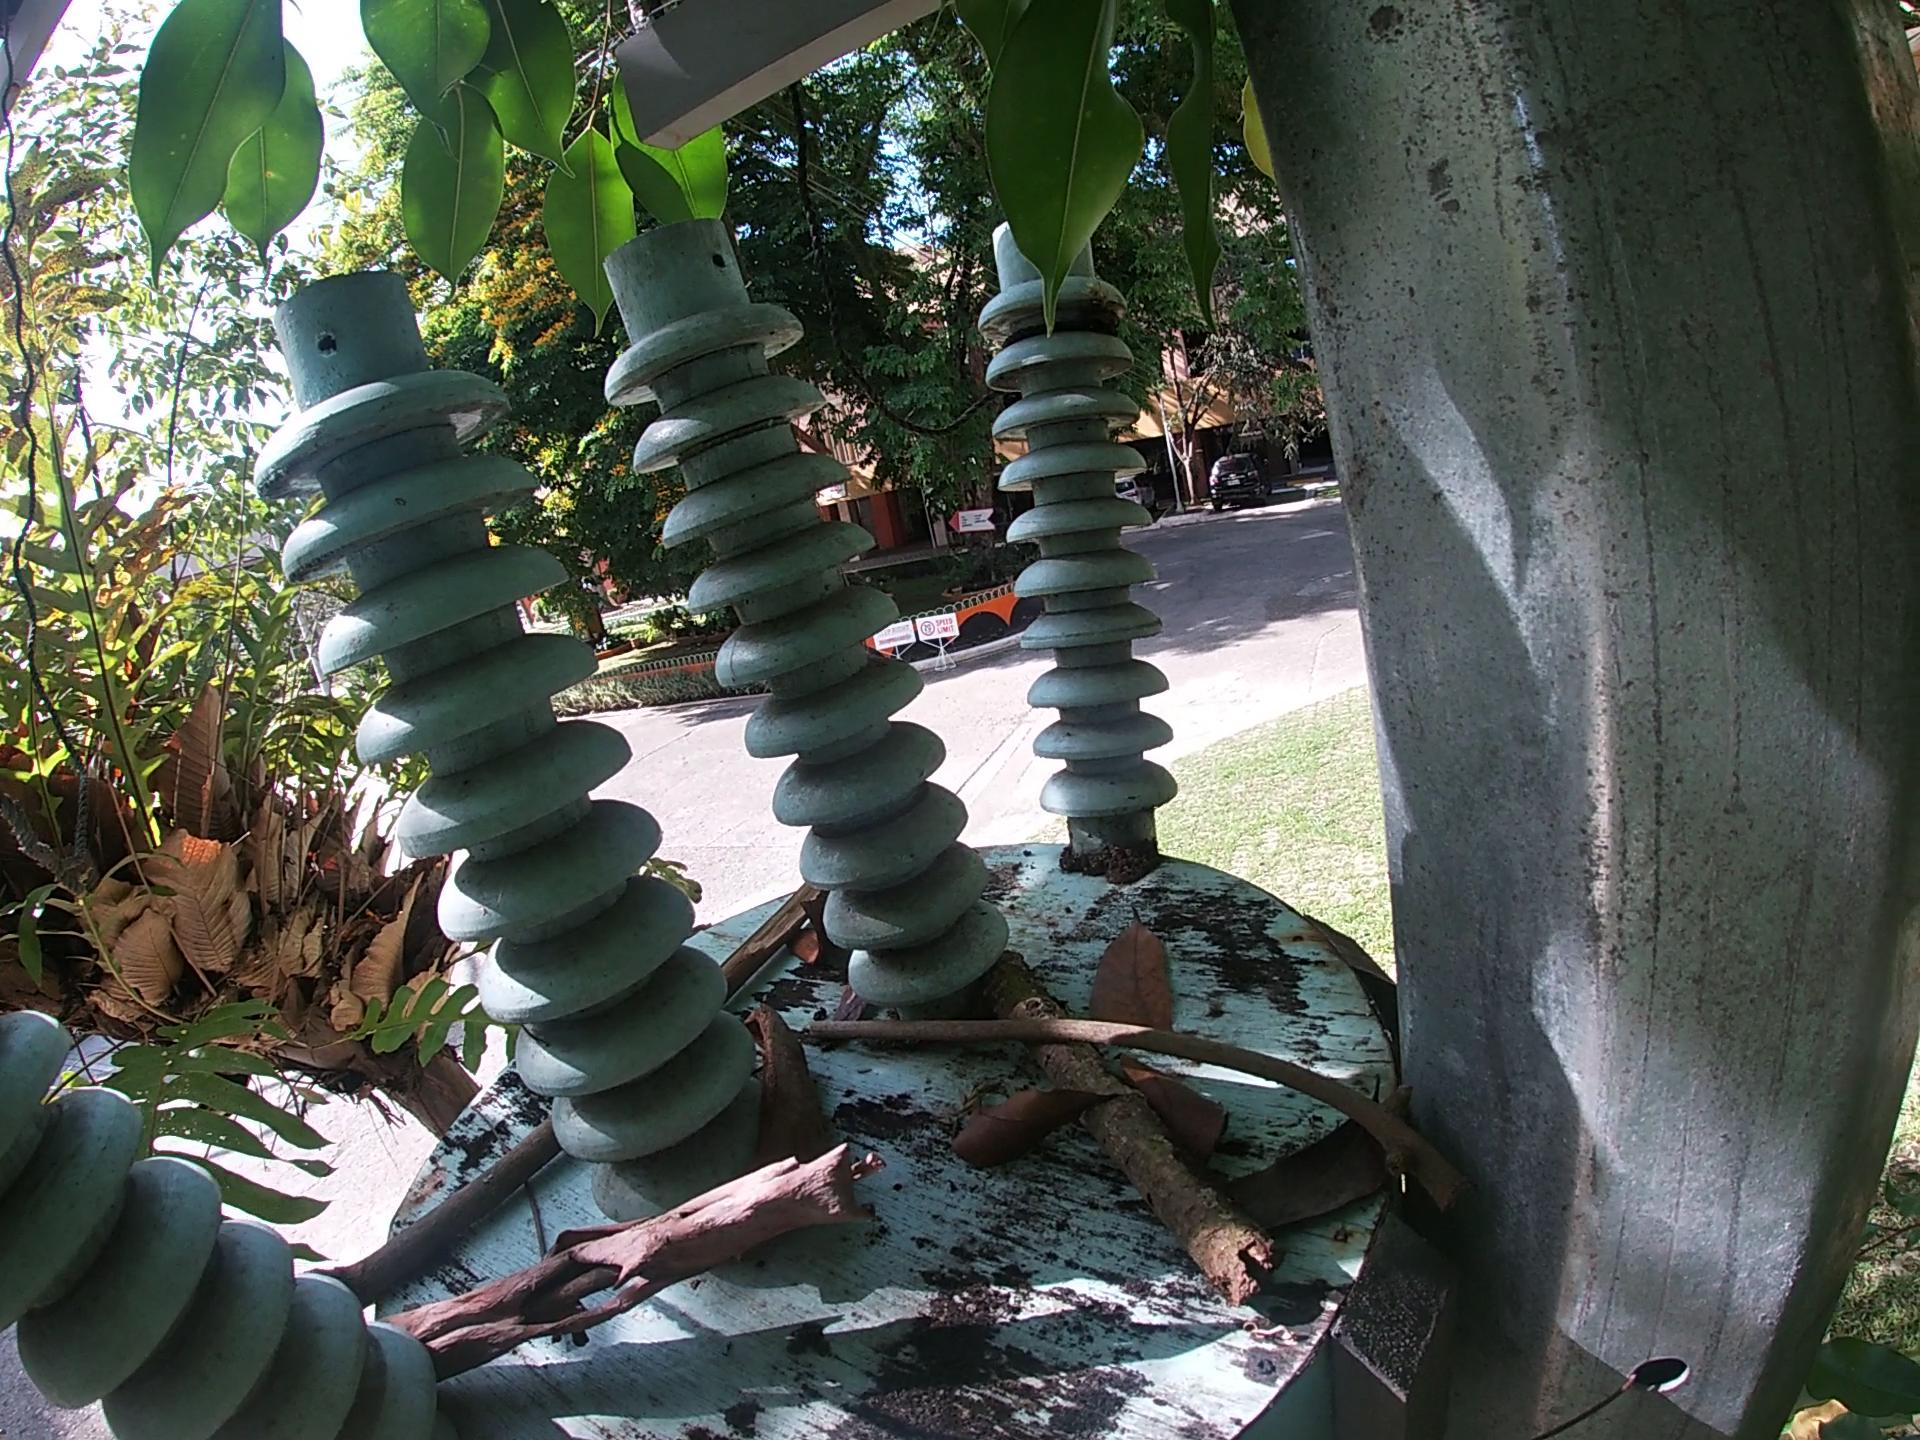leaf: (1217, 1069, 1404, 1236), (945, 1078, 1120, 1181), (1114, 1051, 1232, 1172), (1079, 905, 1184, 1027)
mahogany fruit: (729, 1001, 825, 1175), (782, 888, 841, 973)
tree branch: (803, 1007, 1477, 1222), (381, 1130, 889, 1389), (975, 938, 1287, 1311), (298, 1118, 562, 1307), (718, 877, 825, 1001)
